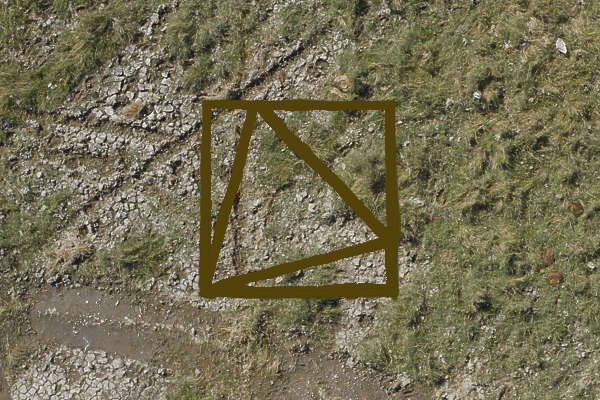marker: (199, 97, 403, 301)
